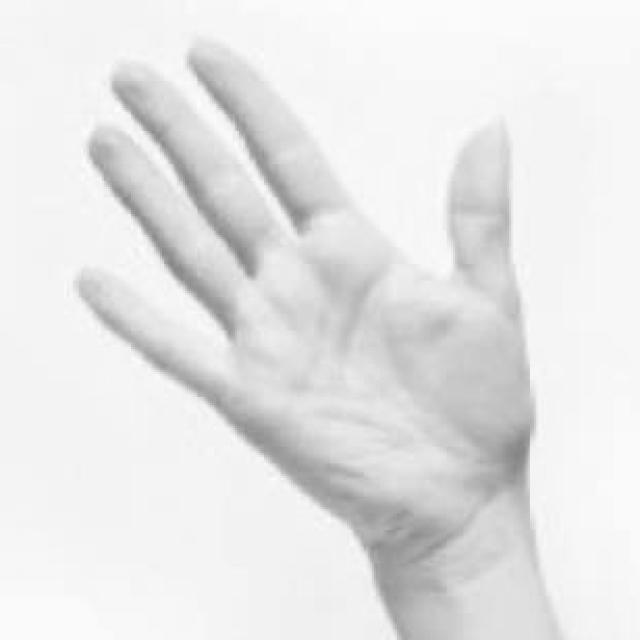stop: (67, 29, 542, 561)
